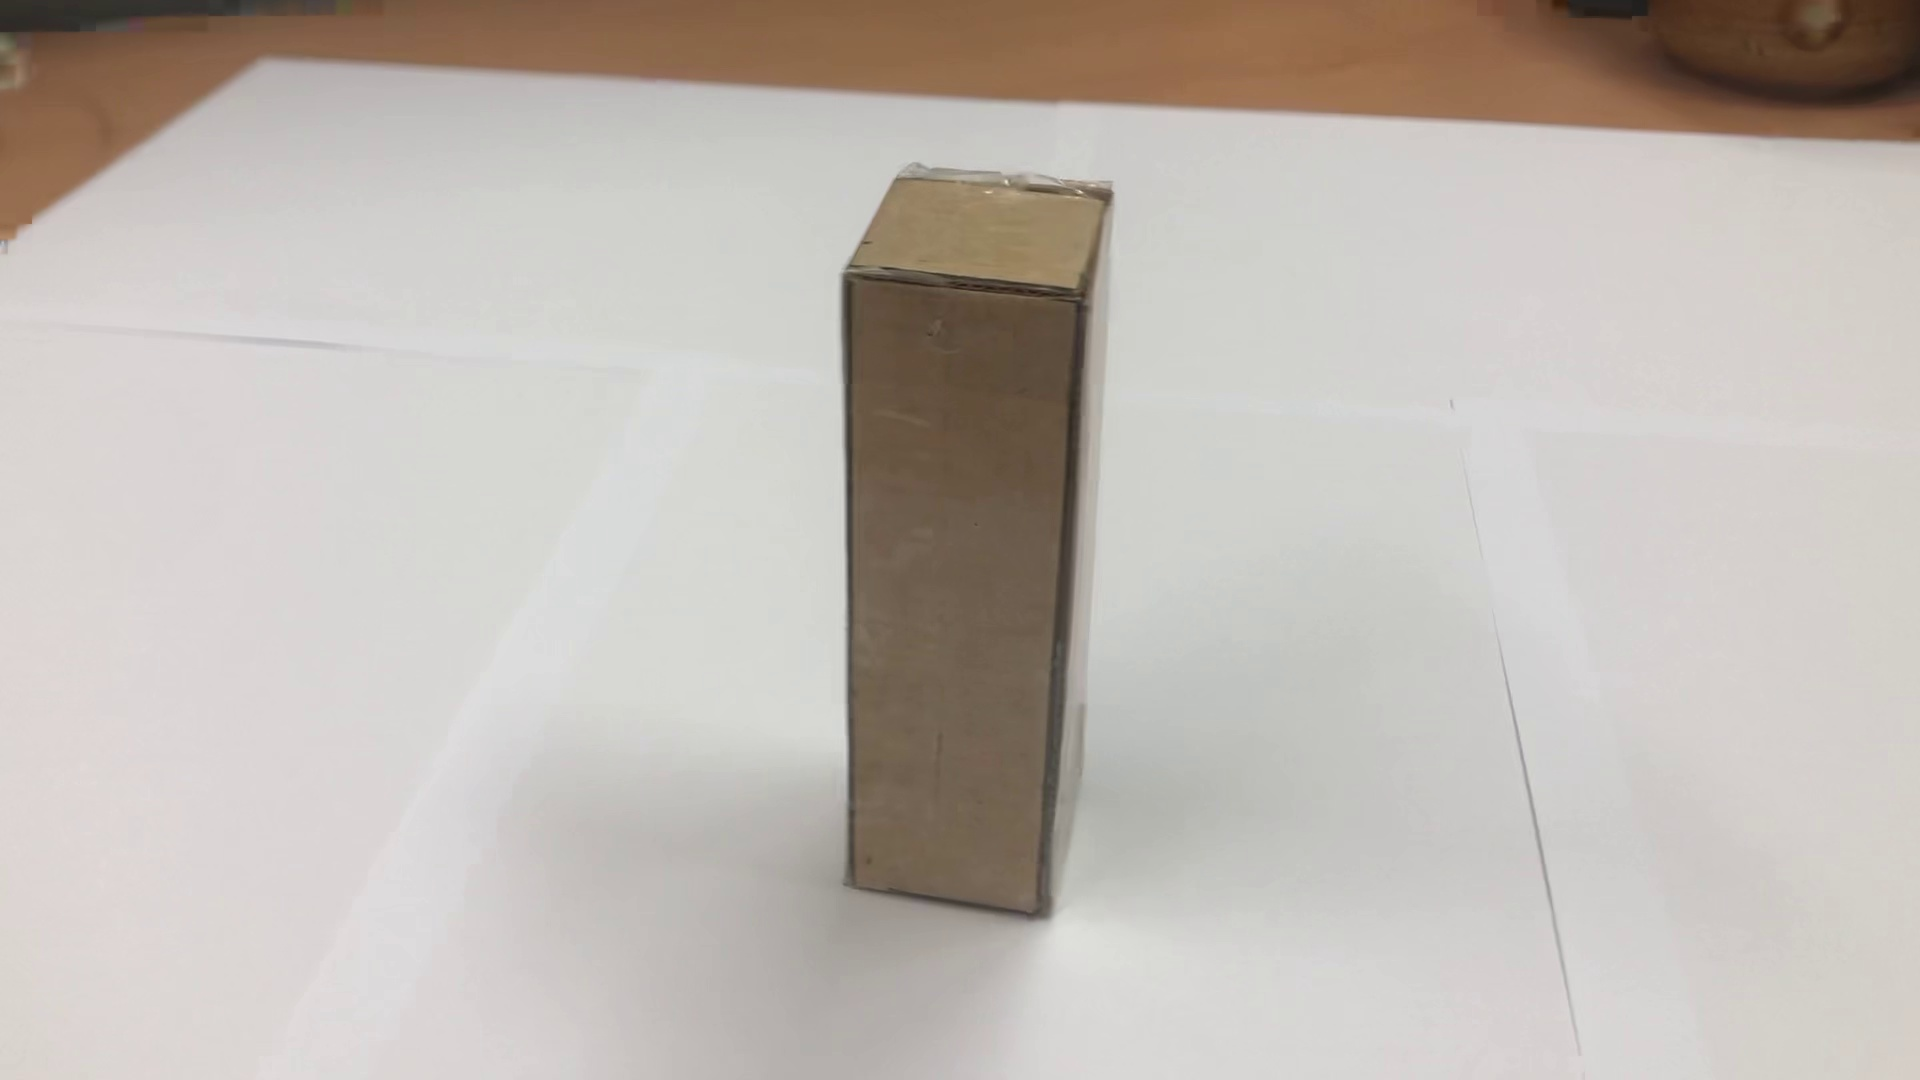box: (822, 142, 1130, 948)
